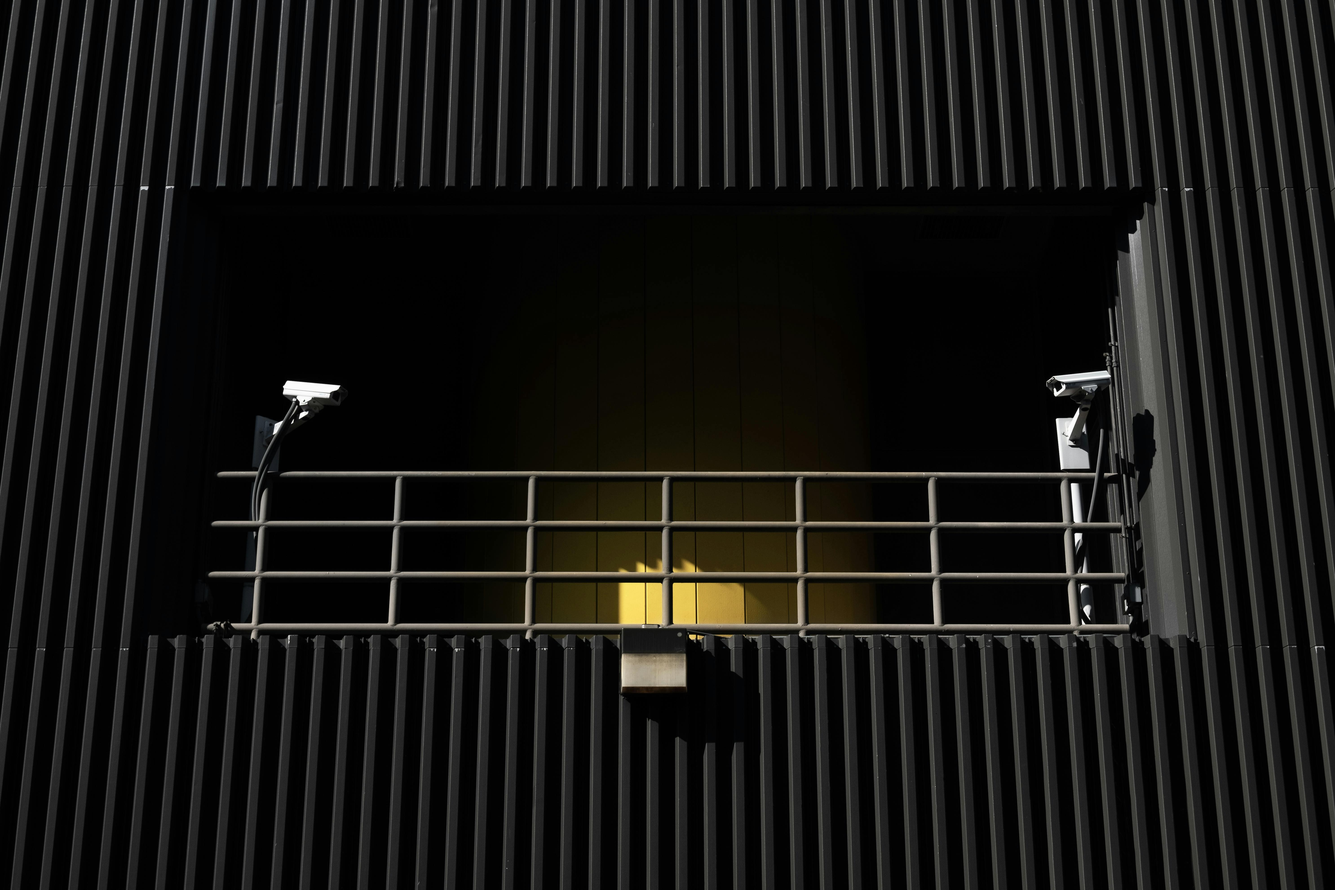camera: (229, 323, 386, 467), (1008, 317, 1136, 474)
